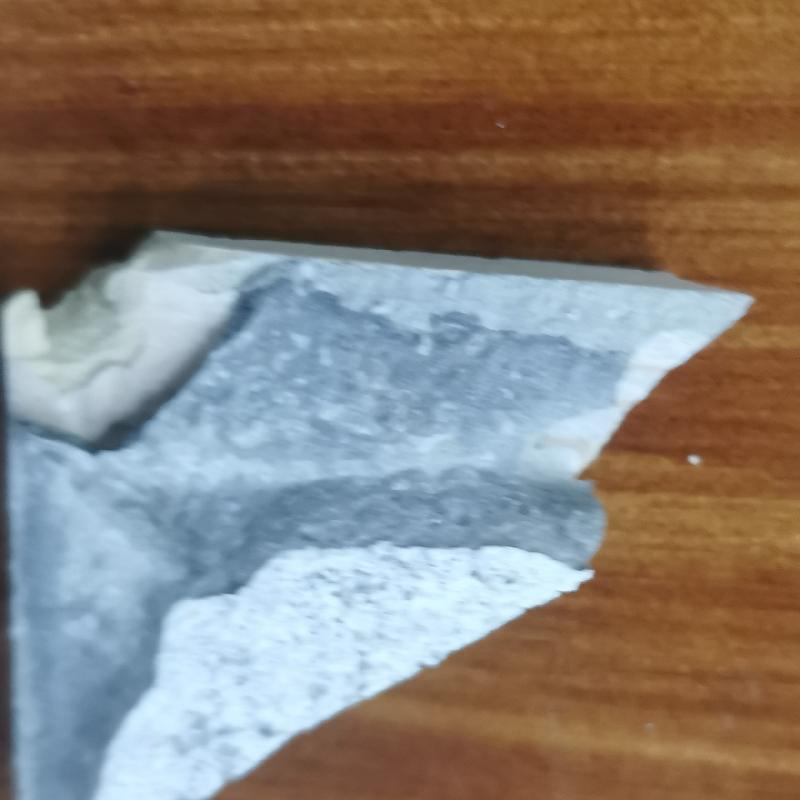tile: (3, 227, 750, 799)
